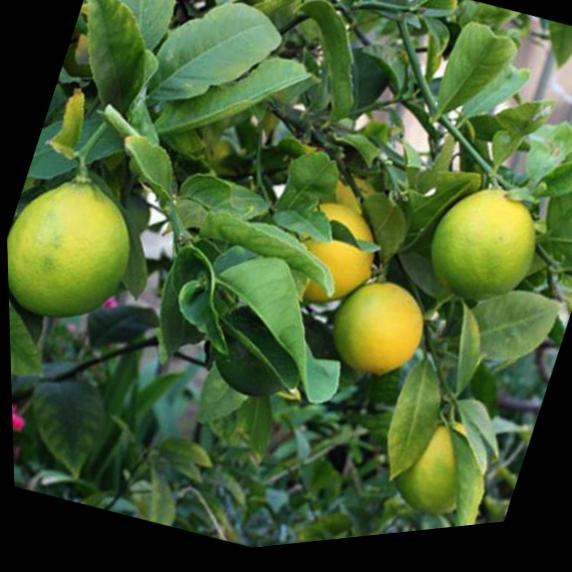Healthy Citrus: (135, 0, 284, 132), (48, 0, 170, 128), (132, 236, 238, 381), (259, 0, 376, 131), (9, 365, 111, 492), (419, 20, 518, 142), (367, 362, 454, 496), (457, 285, 565, 392), (532, 112, 572, 267), (7, 290, 61, 389), (100, 0, 181, 12)
